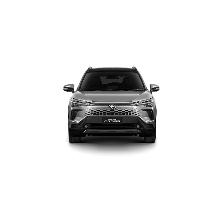NON-EV: (65, 68, 162, 145)
